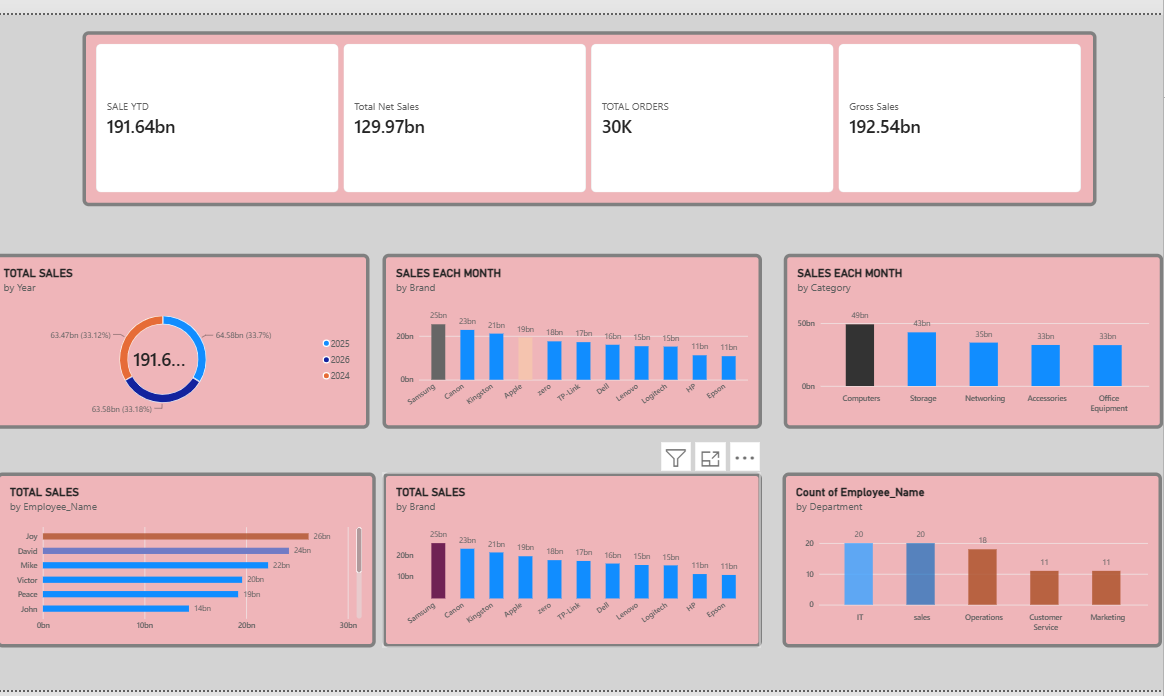

The page's visual inventory and layout, read from the dashboard file:
{"tool":"powerbi","page":{"name":"SALES DASHBOARD ","canvas":[1920,1080],"ordinal":1},"visuals":[{"type":"columnChart","fields":{"Category":["Dim_Products.Brand"],"Y":["DATE.TOTAL SALES"]},"box":[627.8,732.8,607.2,279.9],"z":0},{"type":"donutChart","fields":{"Category":["DATE.Year"],"Y":["DATE.TOTAL SALES"]},"box":[0,382.8,607,280],"z":1000},{"type":"columnChart","fields":{"Category":["Dim_Products.Brand"],"Y":["DATE.SALES EACH MONTH"]},"box":[627.8,382.8,607,280],"z":2000},{"type":"columnChart","fields":{"Category":["Dim_Products.Category"],"Y":["DATE.SALES EACH MONTH"]},"box":[1270,382.8,607,280],"z":3000},{"type":"clusteredBarChart","fields":{"Category":["Dim_Employees.Employee_Name"],"Y":["DATE.TOTAL SALES"]},"box":[10.3,732.8,607,280],"z":4000},{"type":"clusteredColumnChart","fields":{"Category":["Dim_Employees.Department"],"Y":["CountNonNull(Dim_Employees.Employee_Name)"]},"box":[1267.9,732.8,607,280],"z":5000},{"type":"cardVisual","fields":{"Data":["DATE.SALE YTD","DATE.Total Gross Sales","DATE.Total Net Sales","DATE.TOTAL ORDERS","DATE.Gross Sales"]},"box":[220.2,24.7,1482,279.9],"z":6000}]}

Visuals, with their boxes in screenshot pixels (x1, y1, x2, y2):
columnChart - Dim_Products.Brand x DATE.TOTAL SALES: bbox=(383, 467, 760, 640)
donutChart - DATE.Year x DATE.TOTAL SALES: bbox=(0, 250, 371, 423)
columnChart - Dim_Products.Brand x DATE.SALES EACH MONTH: bbox=(383, 250, 760, 423)
columnChart - Dim_Products.Category x DATE.SALES EACH MONTH: bbox=(782, 250, 1158, 423)
clusteredBarChart - Dim_Employees.Employee_Name x DATE.TOTAL SALES: bbox=(0, 467, 377, 640)
clusteredColumnChart - Dim_Employees.Department x CountNonNull(Dim_Employees.Employee_Name): bbox=(781, 467, 1157, 640)
cardVisual - DATE.SALE YTD x DATE.Total Gross Sales: bbox=(131, 27, 1050, 201)
